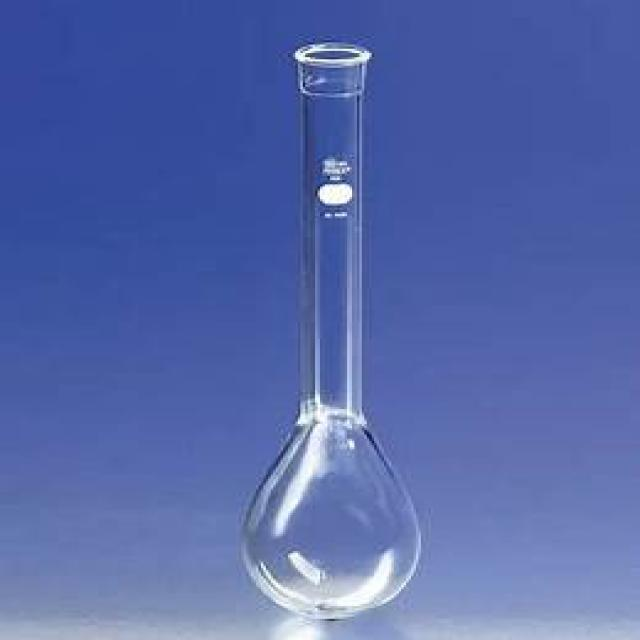Volumetric flask: (237, 41, 423, 611)
